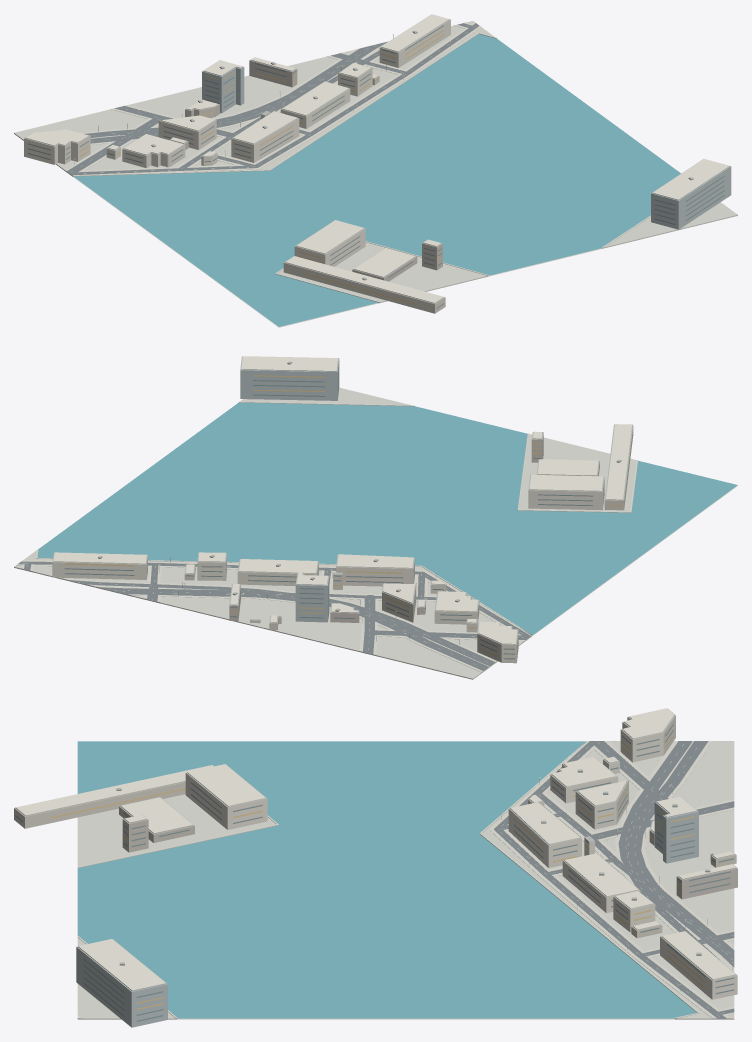
3 renders of one model, top to bottom at view 1: azimuth 30°, elevation 25°; view 2: azimuth 150°, elevation 25°; view 3: azimuth 270°, elevation 25°, orthographic. The views are drawn at different scales.
Parts seen in each view (by area): view 1: city; view 2: city; view 3: city.
Boxes of the visible parts, bbox=[...] form: city: bbox=[14, 14, 737, 327]; city: bbox=[14, 356, 737, 679]; city: bbox=[14, 708, 737, 1027].
Bounding box in the file's own units: 535 × 40.95 × 551.
